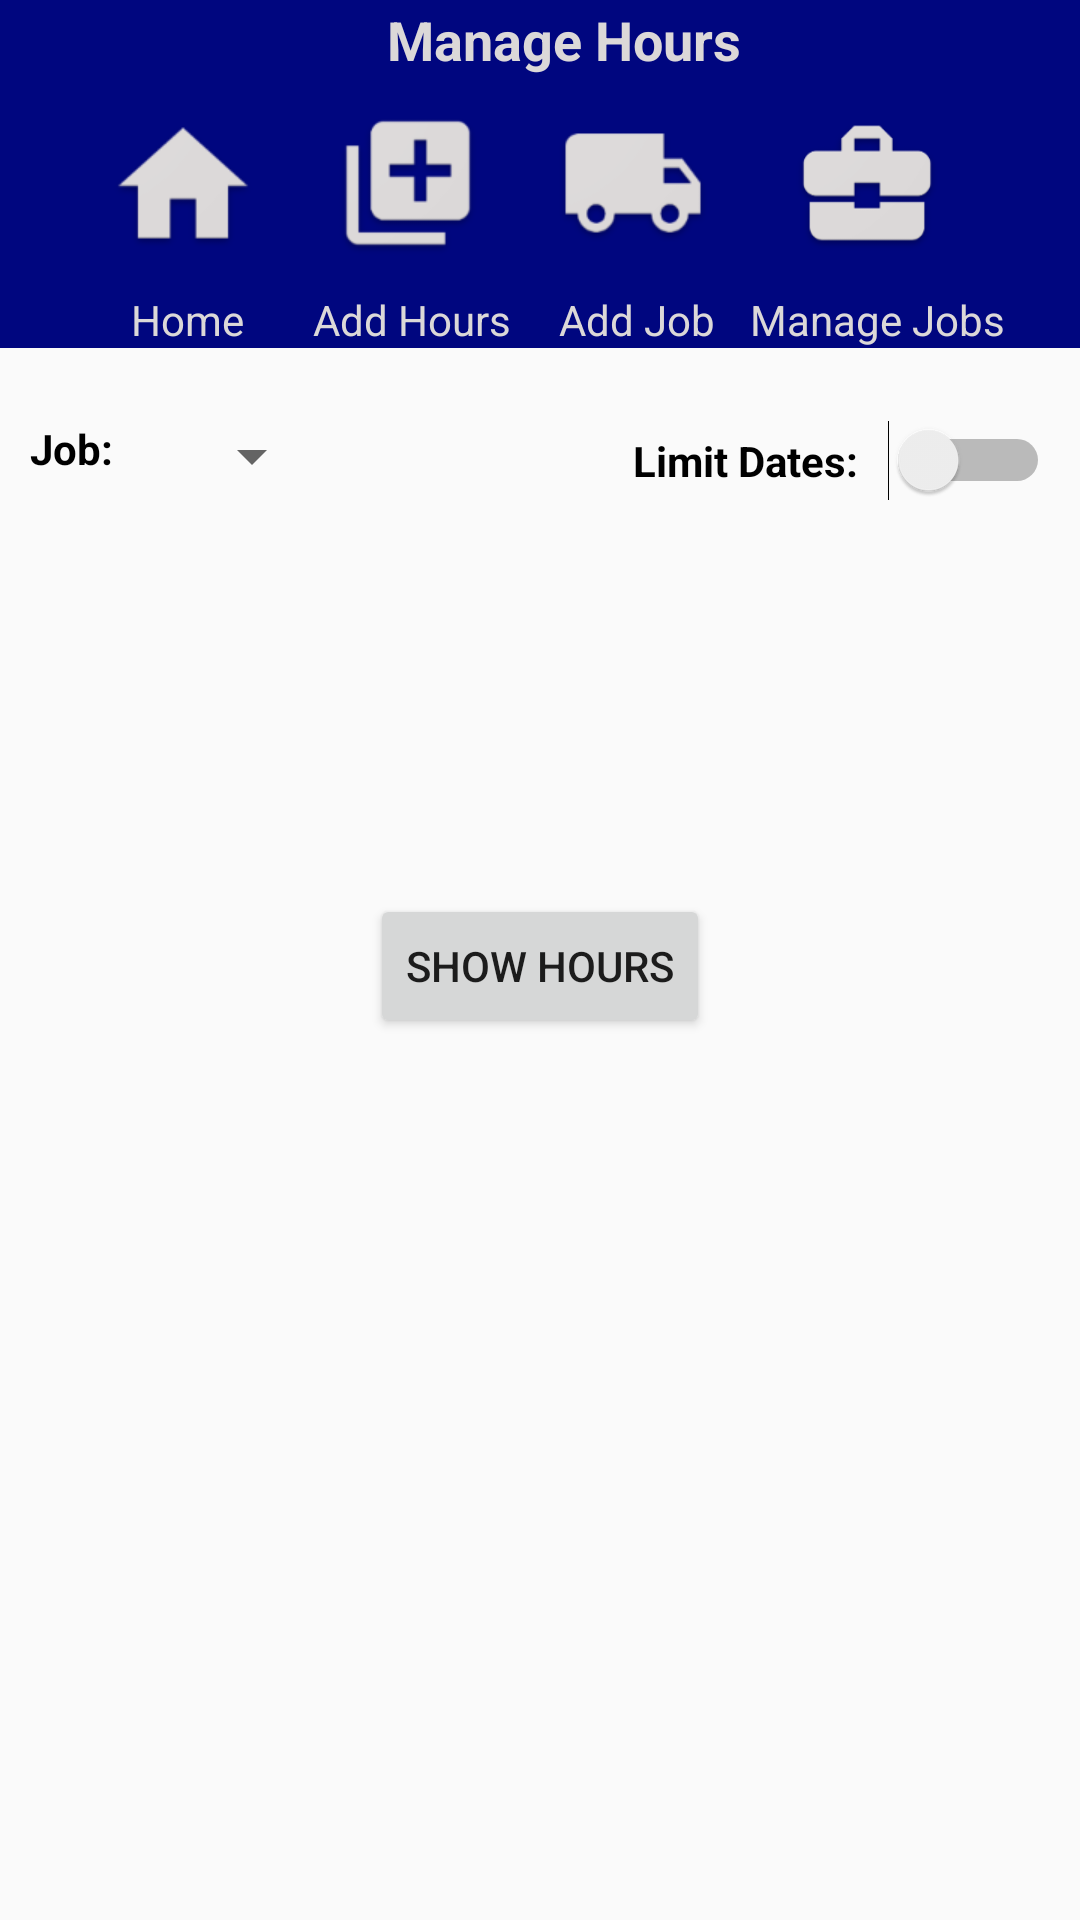

Screen size 1080x1920. Icon name, then its center in pixels as (x=x, y=y):
job manager: (x=867, y=183)
